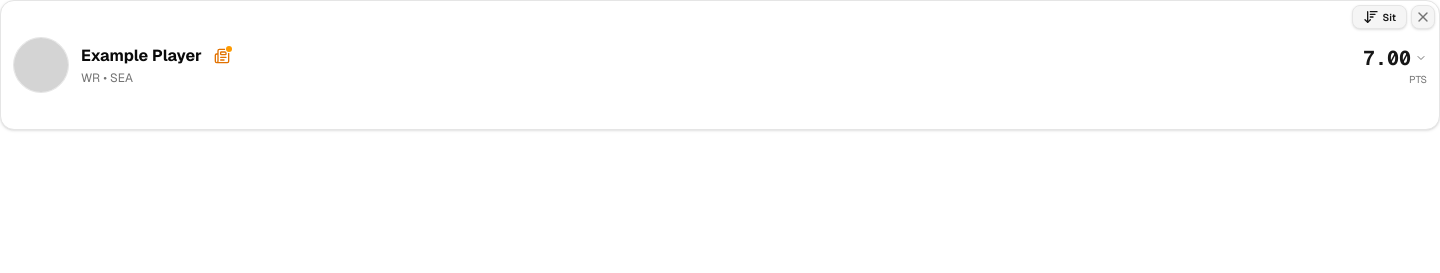
PlayerCard › shows recent in-app news and keeps news and scoring expansions exclusive
The image size is (1440, 273).
Click the text "Pts" at (1418, 79), box [1409,72,1427,86]
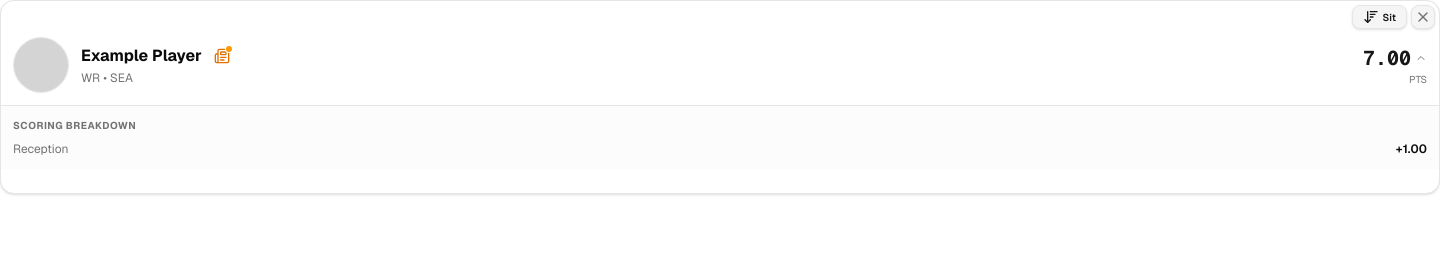
Check: the heading "Scoring Breakdown" is shown, box [13,119,136,132]
Click the button named "Recent news for Example Player" at (222, 56), box [210,44,234,68]
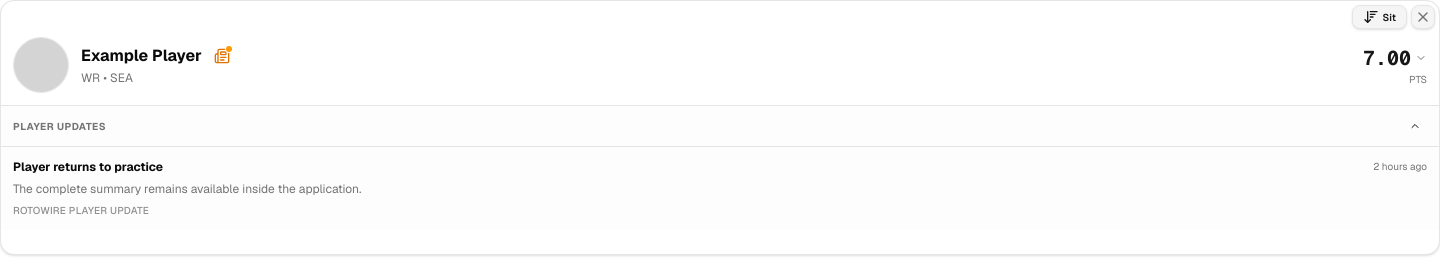
Check: the heading "Scoring Breakdown" is gone
Check: the heading "Player returns to practice" is shown, box [13,159,163,176]
Check: the text "The complete summary remains available inside the application." is shown, box [13,180,362,196]
